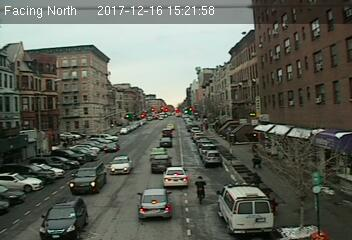bicycle: (195, 175, 209, 205)
car: (39, 195, 88, 236), (68, 161, 105, 193), (137, 187, 173, 219), (162, 167, 188, 187), (109, 156, 131, 174), (150, 154, 171, 172), (204, 150, 221, 165), (104, 142, 119, 151)
police: (215, 178, 277, 235)
